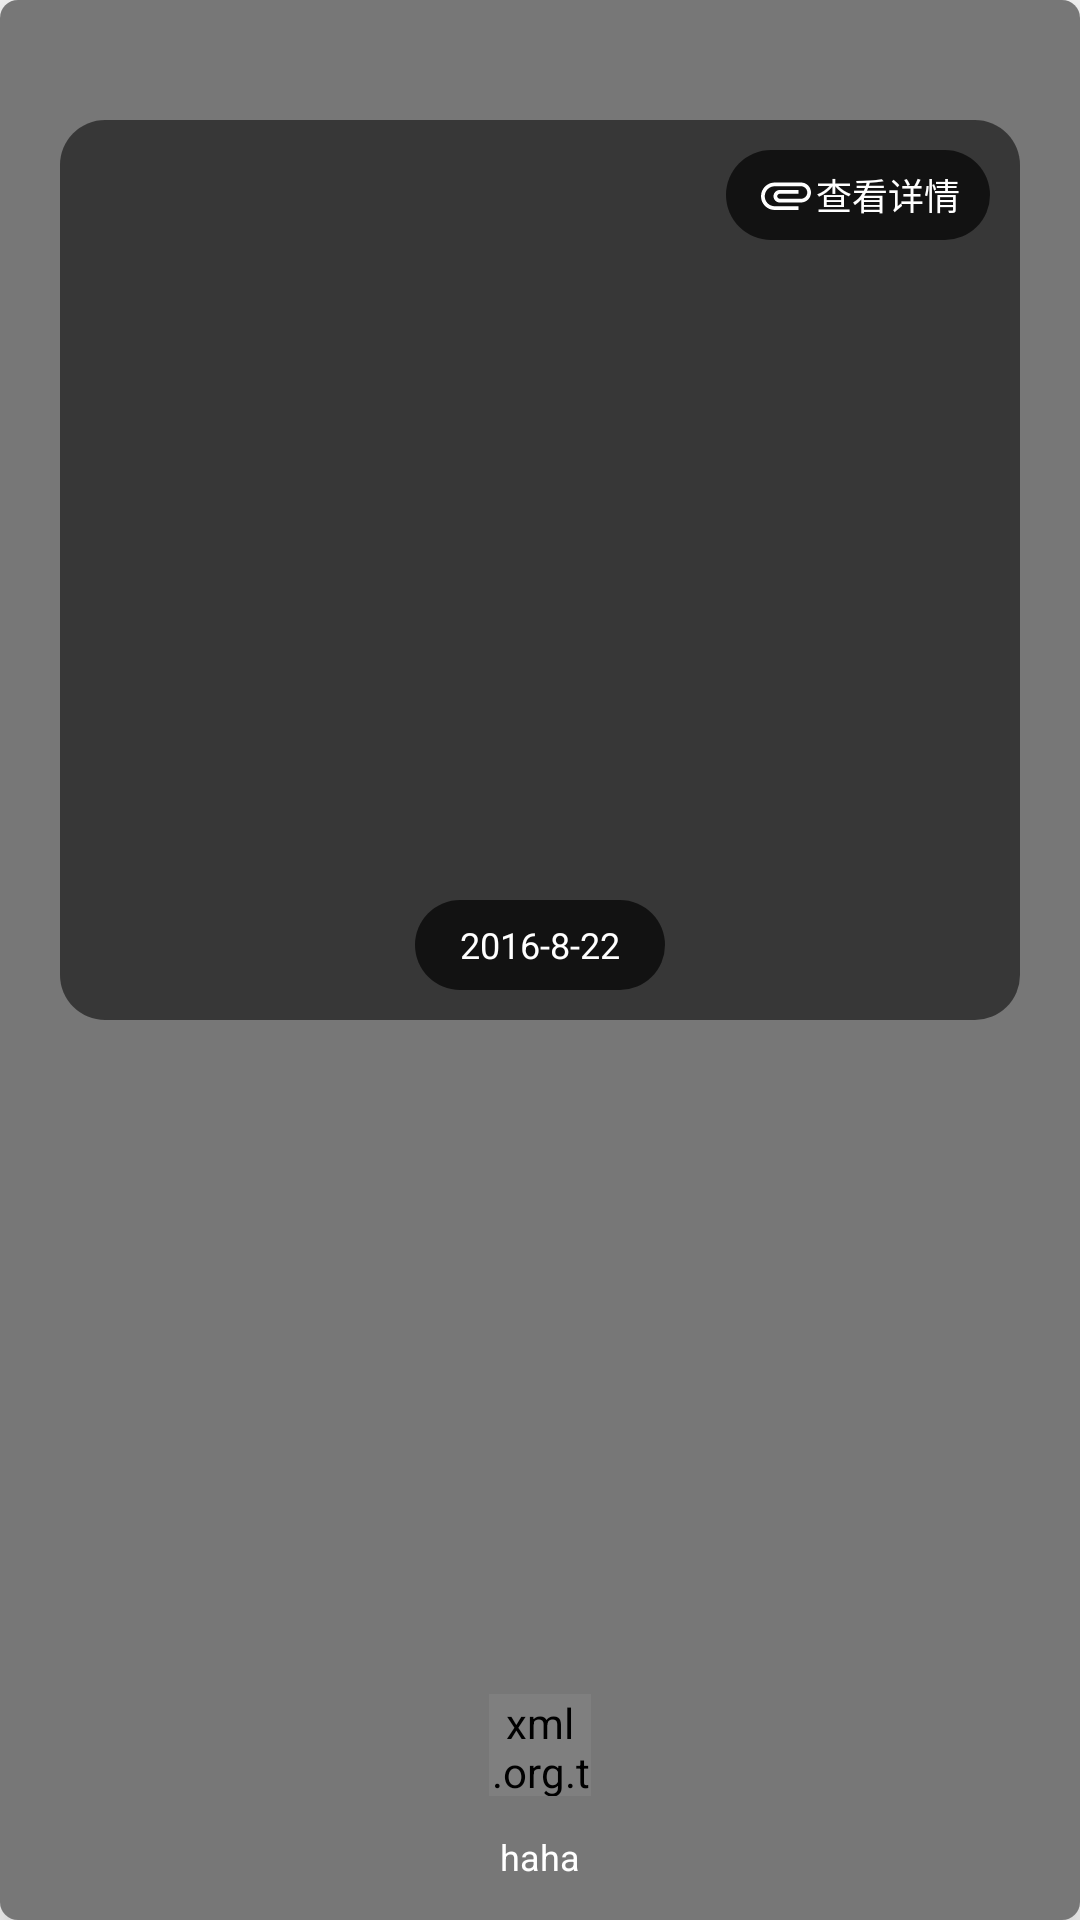

Locate icon controls on the screen. Image size 1080px x 1920px, boxes as bbox=[x1, y1, x2, y2].
link: bbox=[761, 182, 811, 210]
